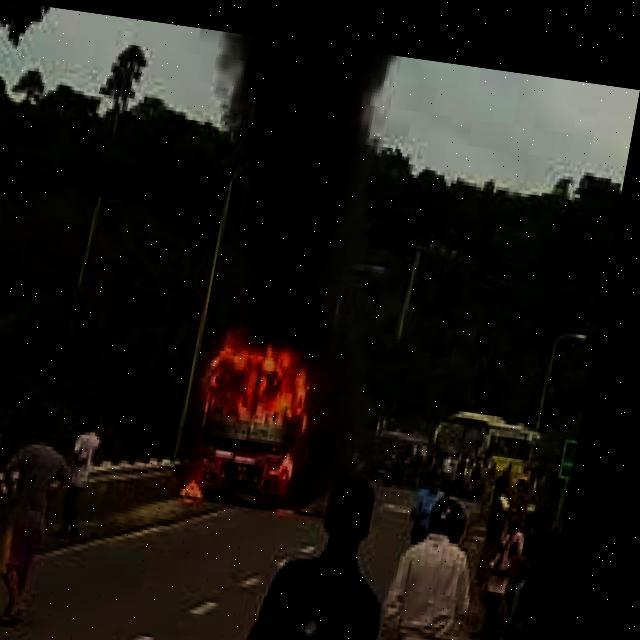Fire: (190, 302, 358, 532)
